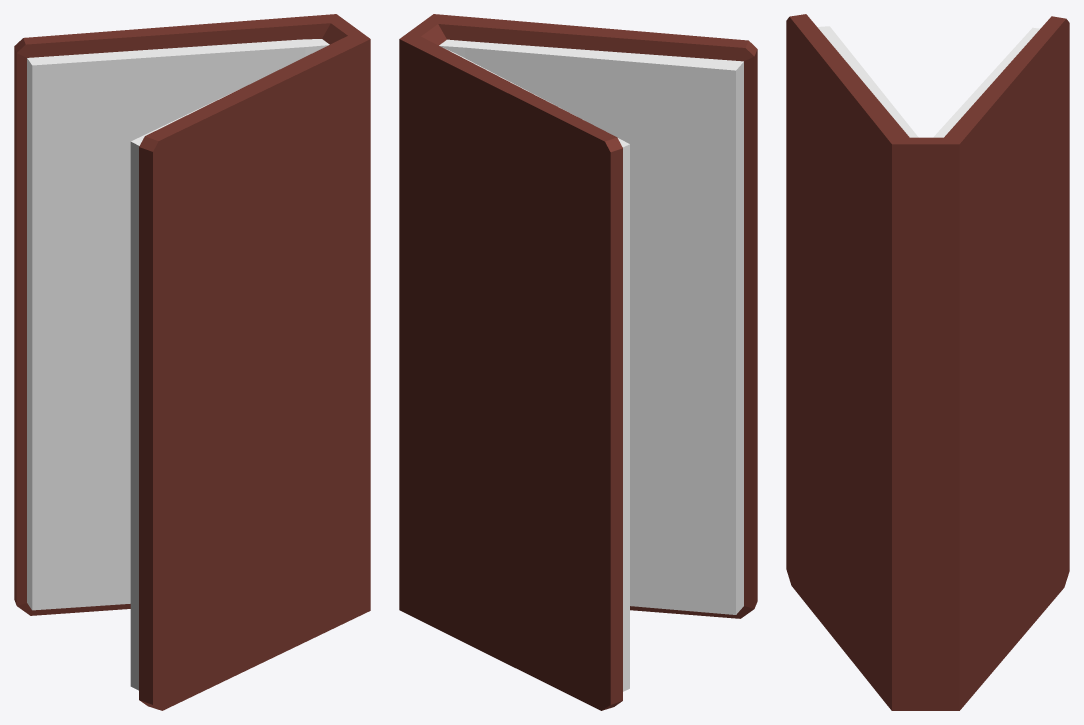
File: bookopen03.gltf
3 renders of one model, left to right at view 1: azimuth 30°, elevation 25°; view 2: azimuth 150°, elevation 25°; view 3: azimuth 270°, elevation 25°, orthographic.
Parts seen in each view (by area): view 1: Cube.001; view 2: Cube.001; view 3: Cube.001.
Boxes of the visible parts, x1,y1,x2,y2 form: Cube.001: [14, 14, 370, 710]; Cube.001: [399, 14, 757, 710]; Cube.001: [786, 14, 1069, 710].
Size of the model in its own units: 0.1163 by 0.2299 by 0.1041.
1 material, 1 textured.
